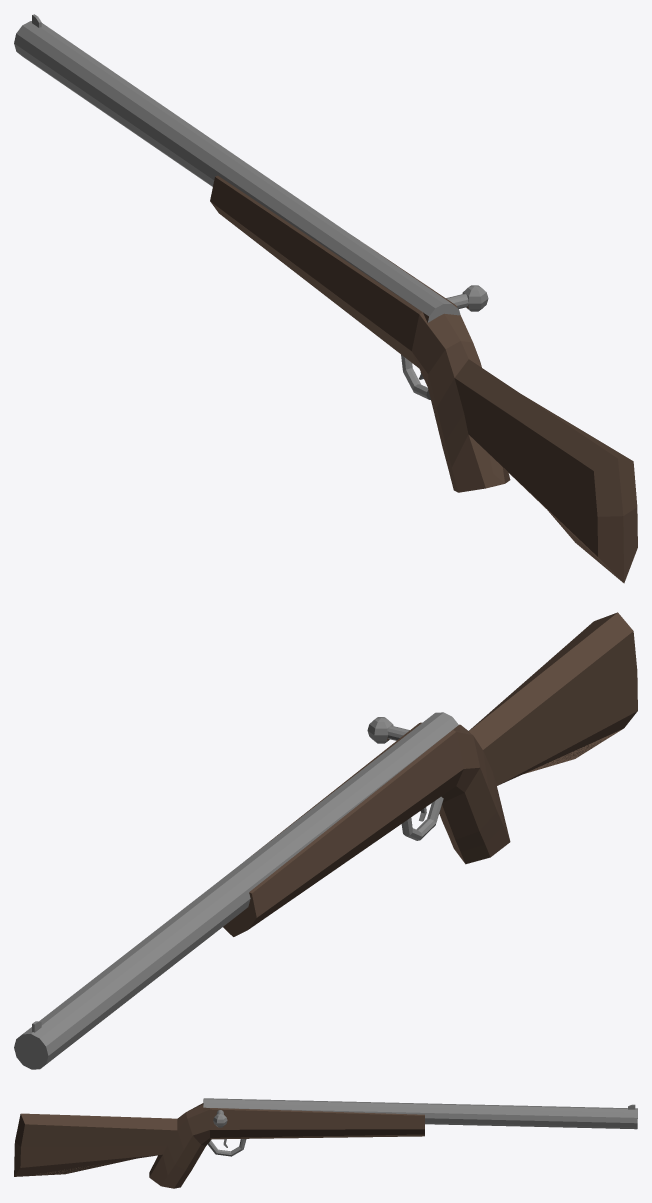
File: rifle.fbx
3 renders of one model, top to bottom at view 1: azimuth 30°, elevation 25°; view 2: azimuth 150°, elevation 25°; view 3: azimuth 270°, elevation 25°, orthographic. The views are drawn at different scales.
Visible parts, largest first — view 1: Gun; view 2: Gun; view 3: Gun.
Boxes of the visible parts, <box> form: Gun: <box>14,14,637,583</box>; Gun: <box>14,612,637,1069</box>; Gun: <box>14,1098,637,1188</box>.
Bounding box in the file's own units: 11.63 × 22.42 × 144.
